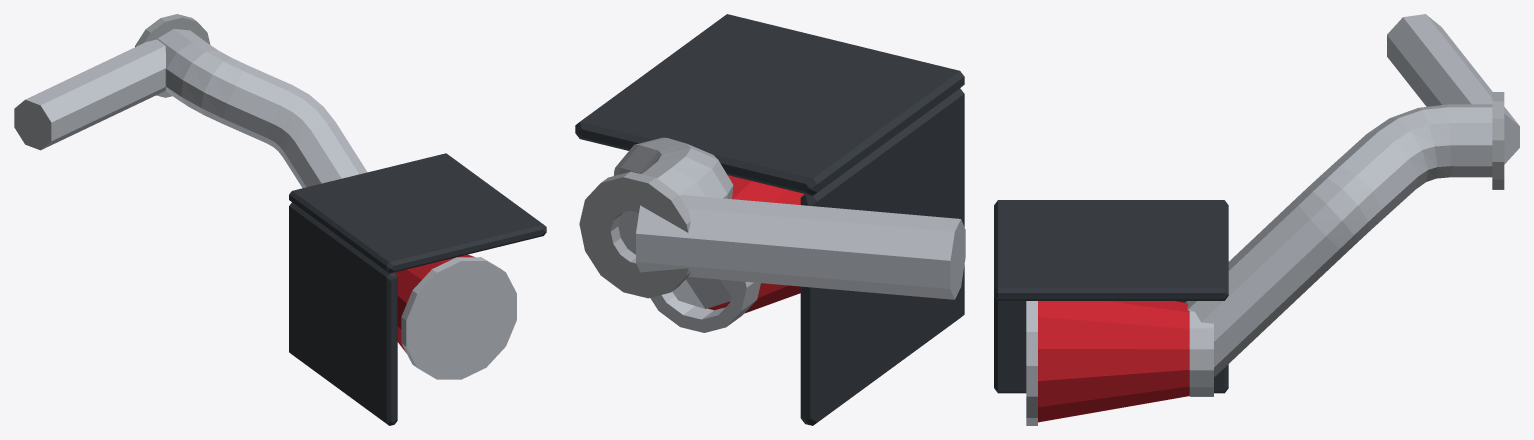
The model's file is kaze_gt.glb.
3 renders of one model, left to right at view 1: azimuth 30°, elevation 25°; view 2: azimuth 150°, elevation 25°; view 3: azimuth 270°, elevation 25°, orthographic. The views are drawn at different scales.
Parts seen in each view (by area): view 1: model; view 2: model; view 3: model.
Part boxes in pixels (bbox=[...]): model: bbox=[14, 14, 546, 425]; model: bbox=[575, 14, 965, 425]; model: bbox=[994, 14, 1519, 425].
Size of the model in its own units: 0.4693 by 0.33 by 0.538.
2 materials, 1 textured.
